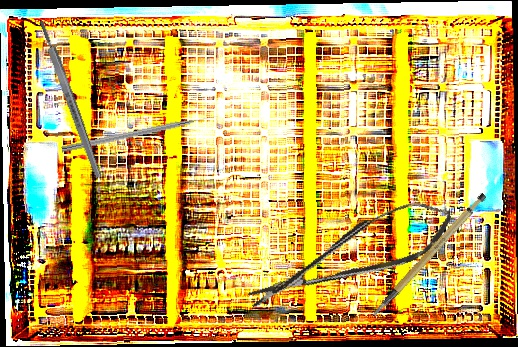Hook Surgical: (60, 112, 220, 154)
Micro Scissor: (238, 190, 461, 321)
Scalpel Handle: (354, 190, 502, 318), (36, 19, 104, 179)
